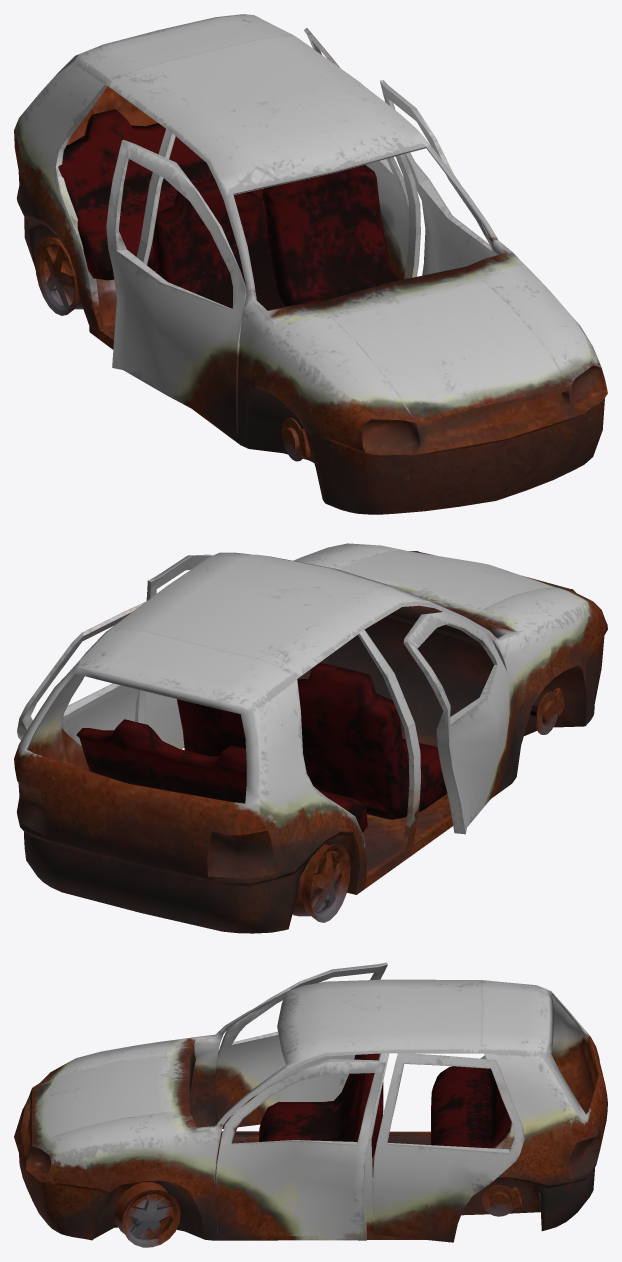
Rendered from car3_hatch_stripped_white.glb.
3 views of the same model, one above another, from view 1: azimuth 30°, elevation 25°; view 2: azimuth 150°, elevation 25°; view 3: azimuth 270°, elevation 25° (orthographic). The views are drawn at different scales.
Visible parts, largest first — view 1: CarChasis-low, Door-Front-Right, Seat-Front-Left, Seat-Back, Seat-Front-Left.001, Door-Front-Left, Door-Back-Left, Rim-Back-Right, Rim-Front-Right; view 2: CarChasis-low, Seat-Front-Left.001, Door-Front-Right, Seat-Back, Door-Back-Left, Rim-Back-Right, Seat-Front-Left, Door-Front-Left, Rim-Front-Right; view 3: CarChasis-low, Door-Front-Left, Door-Back-Left, Door-Front-Right, Seat-Back, Seat-Front-Left.001, Rim-Front-Left, Seat-Front-Left, Rim-Front-Right.001.
Boxes of the visible parts, x1,y1,x2,y2 form: CarChasis-low: (14, 14, 607, 514); Door-Front-Right: (106, 140, 246, 431); Seat-Front-Left: (262, 165, 400, 306); Seat-Back: (58, 109, 263, 280); Seat-Front-Left.001: (152, 178, 286, 310); Door-Front-Left: (380, 80, 493, 275); Door-Back-Left: (304, 28, 409, 279); Rim-Back-Right: (35, 237, 83, 315); Rim-Front-Right: (282, 418, 310, 461); CarChasis-low: (14, 543, 607, 933); Seat-Front-Left.001: (297, 663, 447, 819); Door-Front-Right: (403, 611, 516, 834); Seat-Back: (76, 719, 367, 832); Door-Back-Left: (17, 601, 146, 746); Rim-Back-Right: (292, 844, 350, 922); Seat-Front-Left: (177, 699, 245, 756); Door-Front-Left: (144, 554, 212, 749); Rim-Front-Right: (535, 688, 564, 734); CarChasis-low: (14, 979, 607, 1240); Door-Front-Left: (215, 1059, 385, 1240); Door-Back-Left: (373, 1053, 524, 1242); Door-Front-Right: (215, 962, 387, 1128); Seat-Back: (431, 1066, 511, 1148); Seat-Front-Left.001: (259, 1053, 379, 1141); Rim-Front-Left: (115, 1182, 180, 1247); Seat-Front-Left: (334, 1073, 383, 1158); Rim-Front-Right.001: (482, 1185, 522, 1216).
Size of the model in its own units: 2.05 by 1.36 by 4.
Materials: 1 (1 with a texture image).
